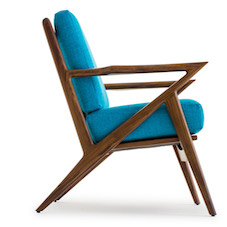chair: (29, 6, 219, 225)
